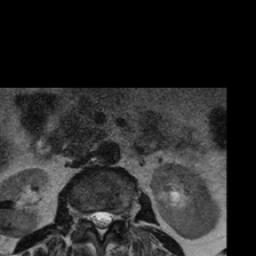CCS_normal: (97, 205, 105, 244)
LFS_stenosis: (113, 204, 122, 228)
LLS_normal: (105, 205, 113, 231)
RFS_normal: (81, 203, 89, 227)
RLS_normal: (89, 205, 97, 231)
